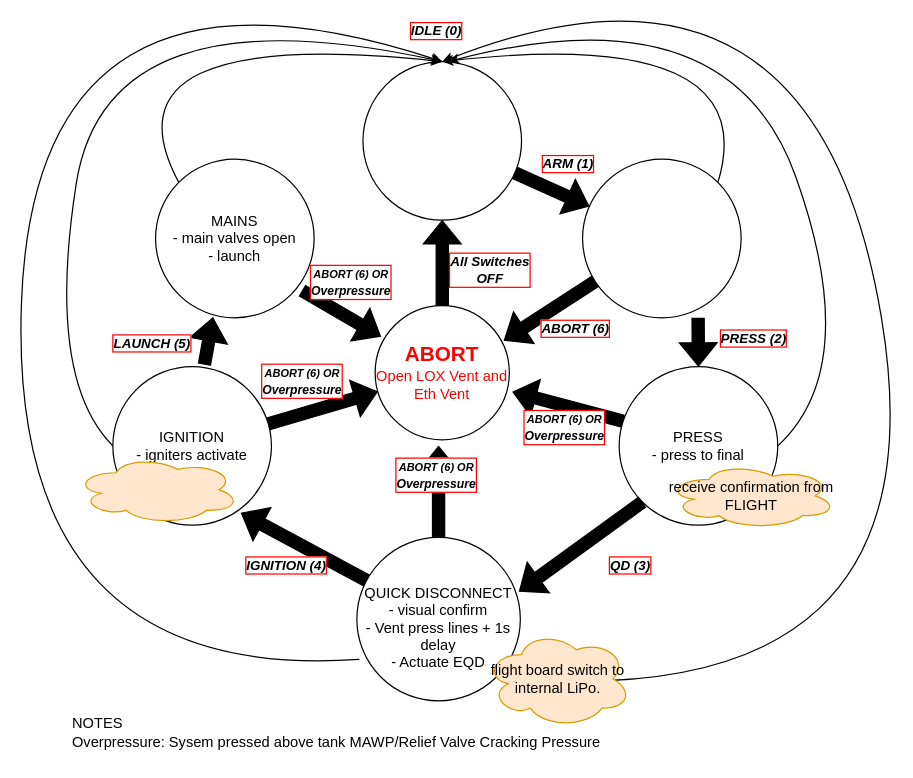
This 913x778 diagram has some shape labels left out. Each missing label, with the centre of its shape:
ARM - unlock all other states - data rate: ~25ms: (661,238)
IDLE - flight board powered from ground - manual ops: (442,140)
visual confirmation: (157,489)
